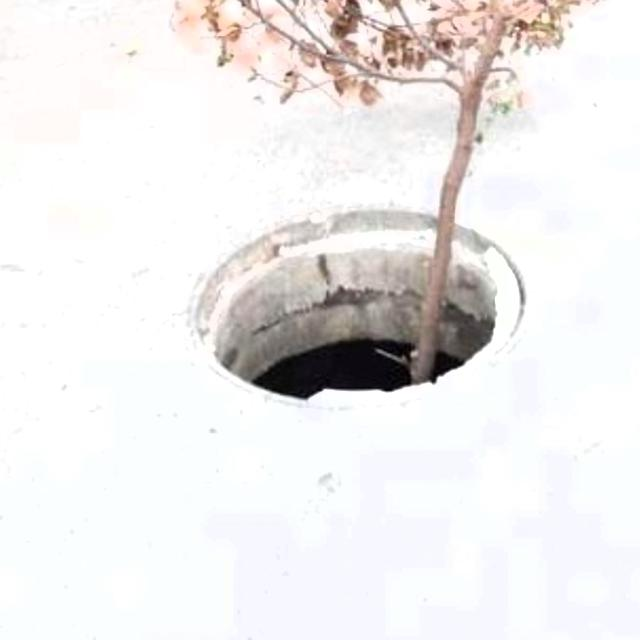lose: (188, 210, 522, 410)
